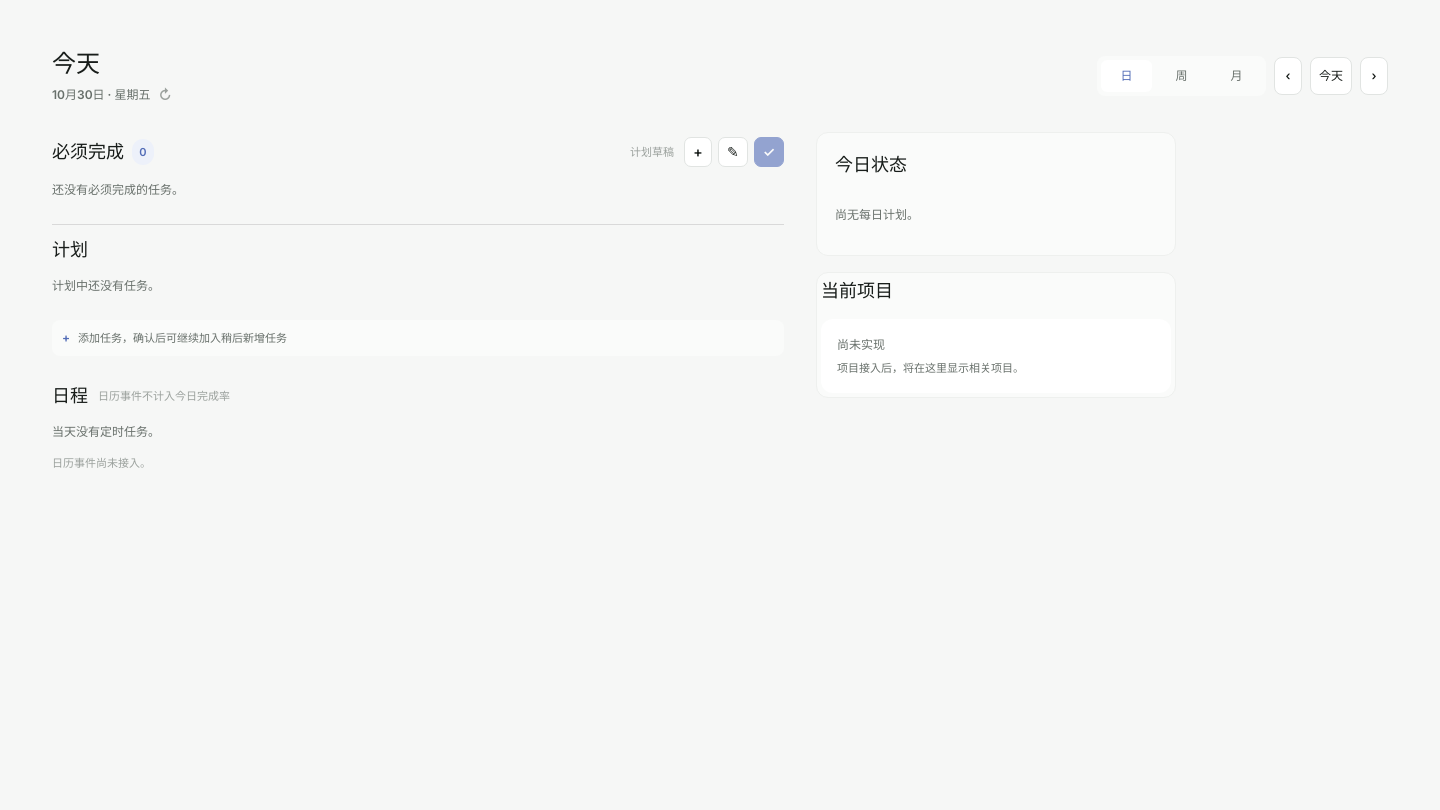
Today Desktop › keeps a failed completion unchecked and displays the server conflict
Expected: the text "计划草稿" is shown, [630,143,674,161]
Step 1. Click the button "+ 添加任务，确认后可继续加入稍后新增任务" → (183, 338), box [52,320,784,356]
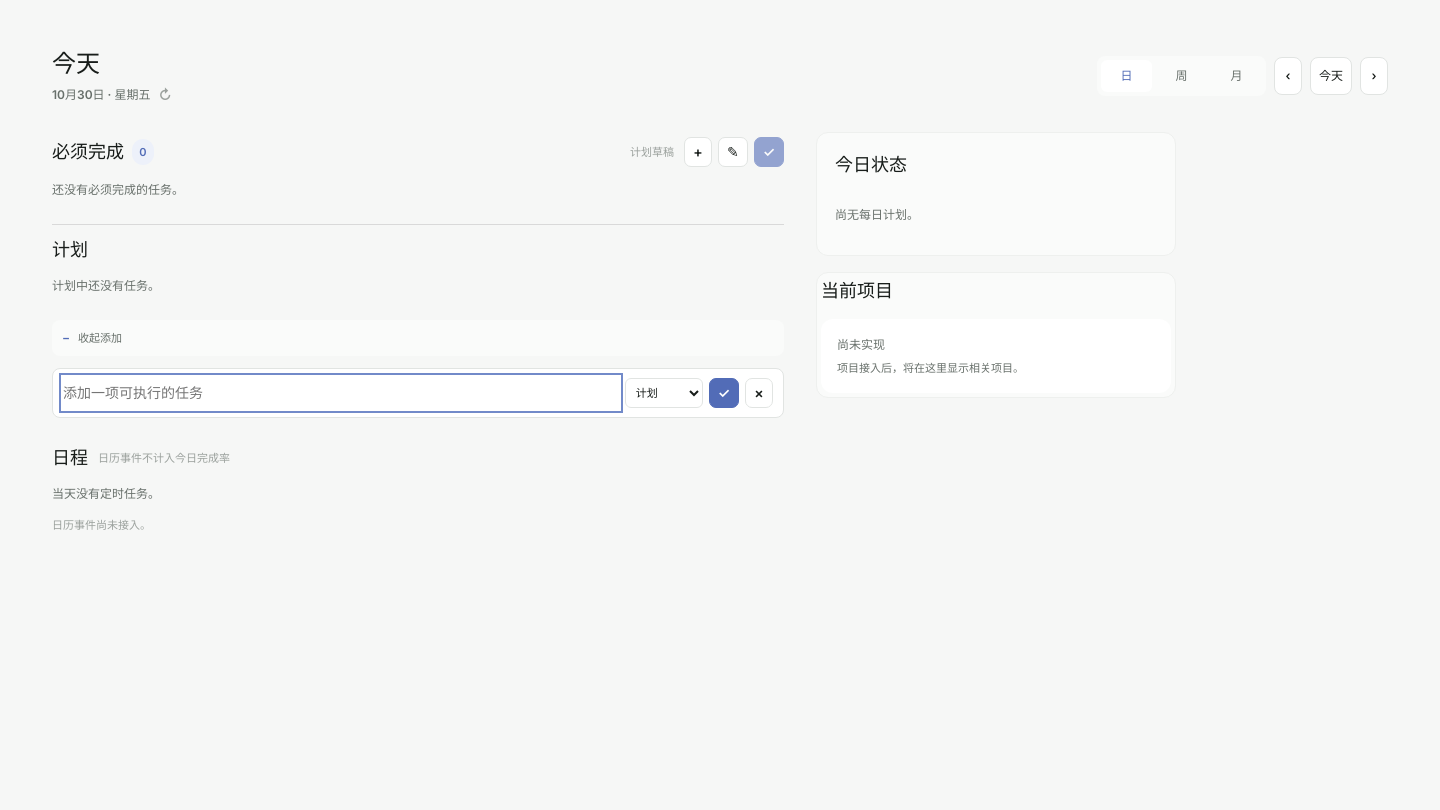
Step 2. Type "Keep pending" into the field named "任务名称" → (341, 393), box [63,377,619,409]
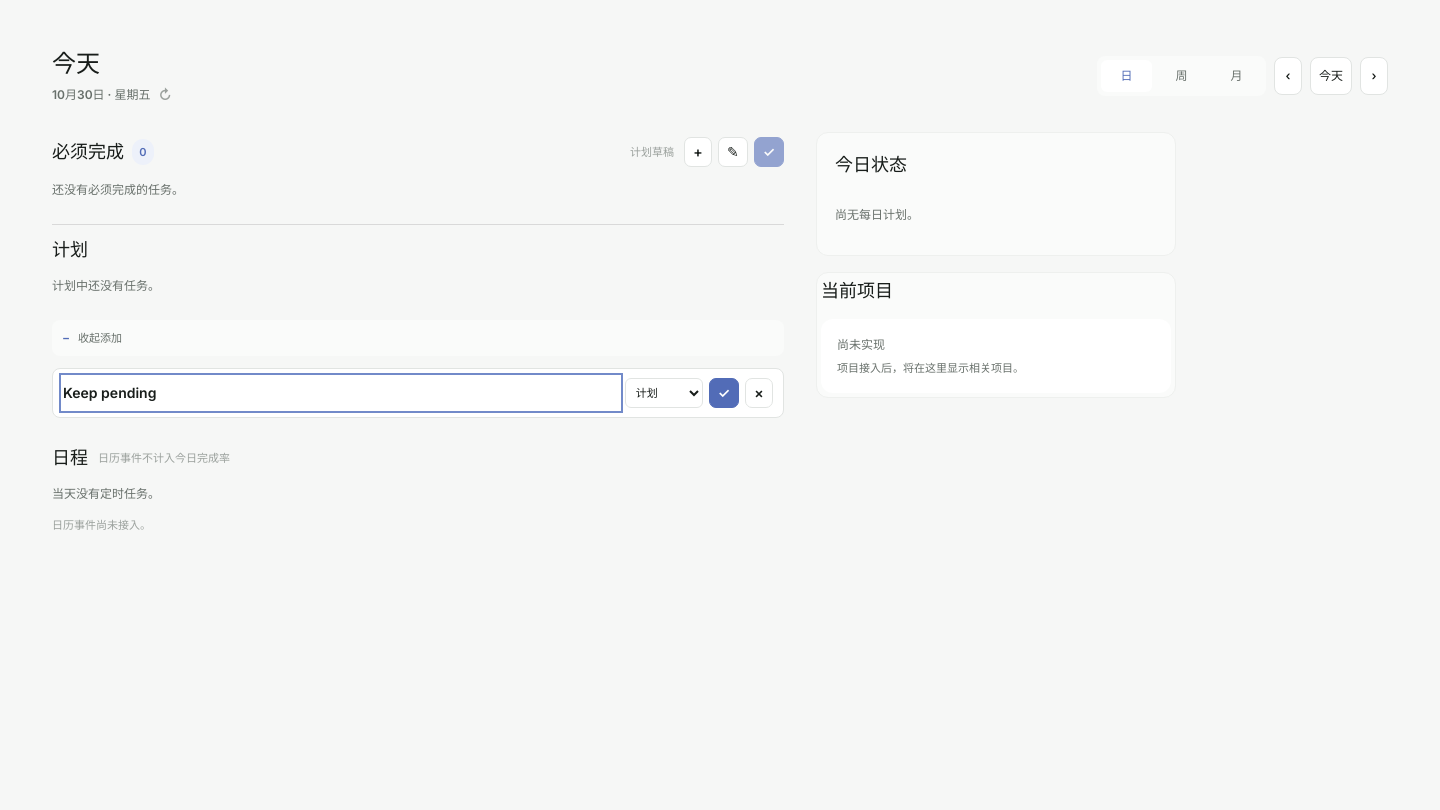
Step 3. Click the button named "创建并加入草稿" → (724, 393), box [709,378,739,408]
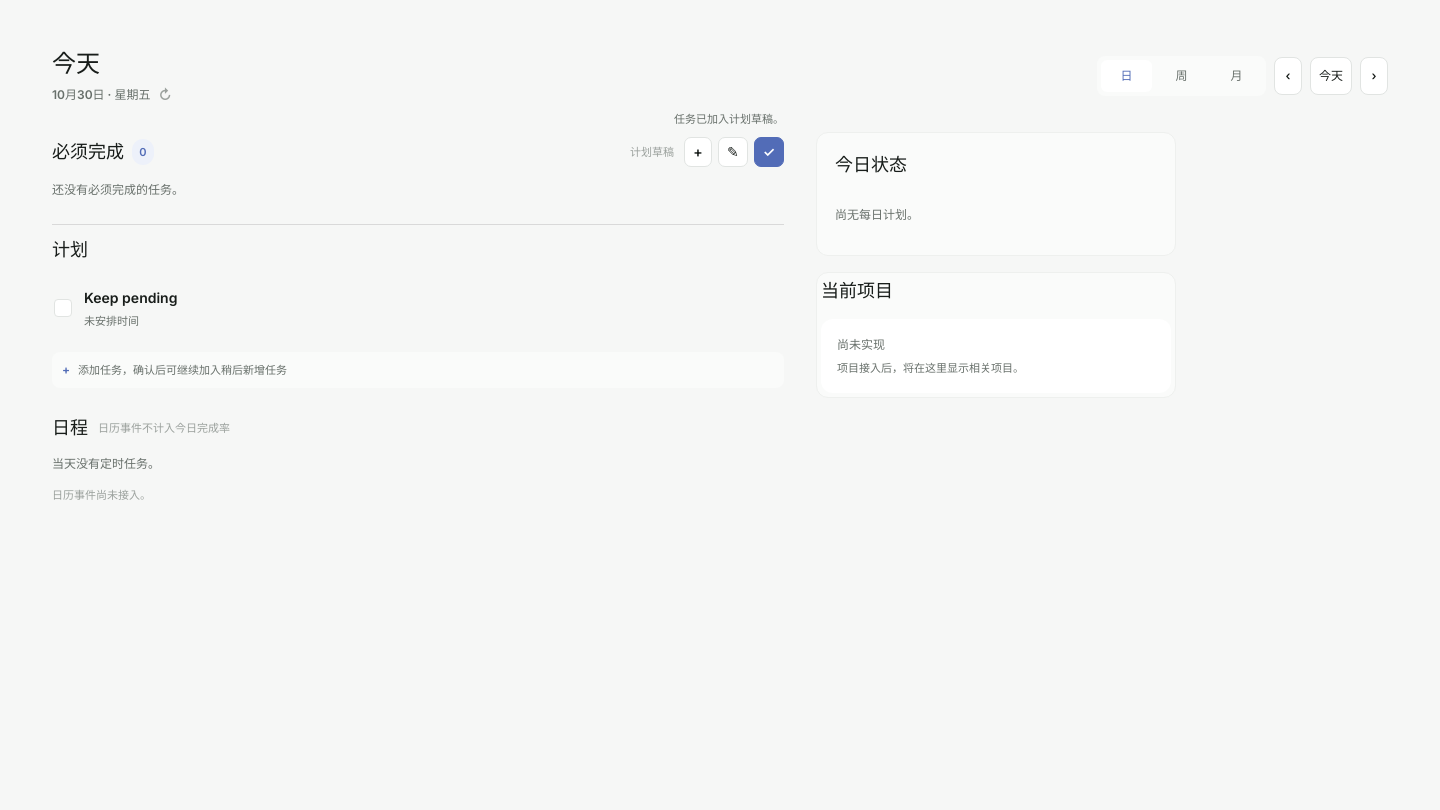
Expected: the field labelled "任务名称" is not shown
Now the text "Keep pending" is shown, box [84,289,177,306]
Step 4. Click the button named "确认今日计划" → (769, 152), box [754,137,784,167]
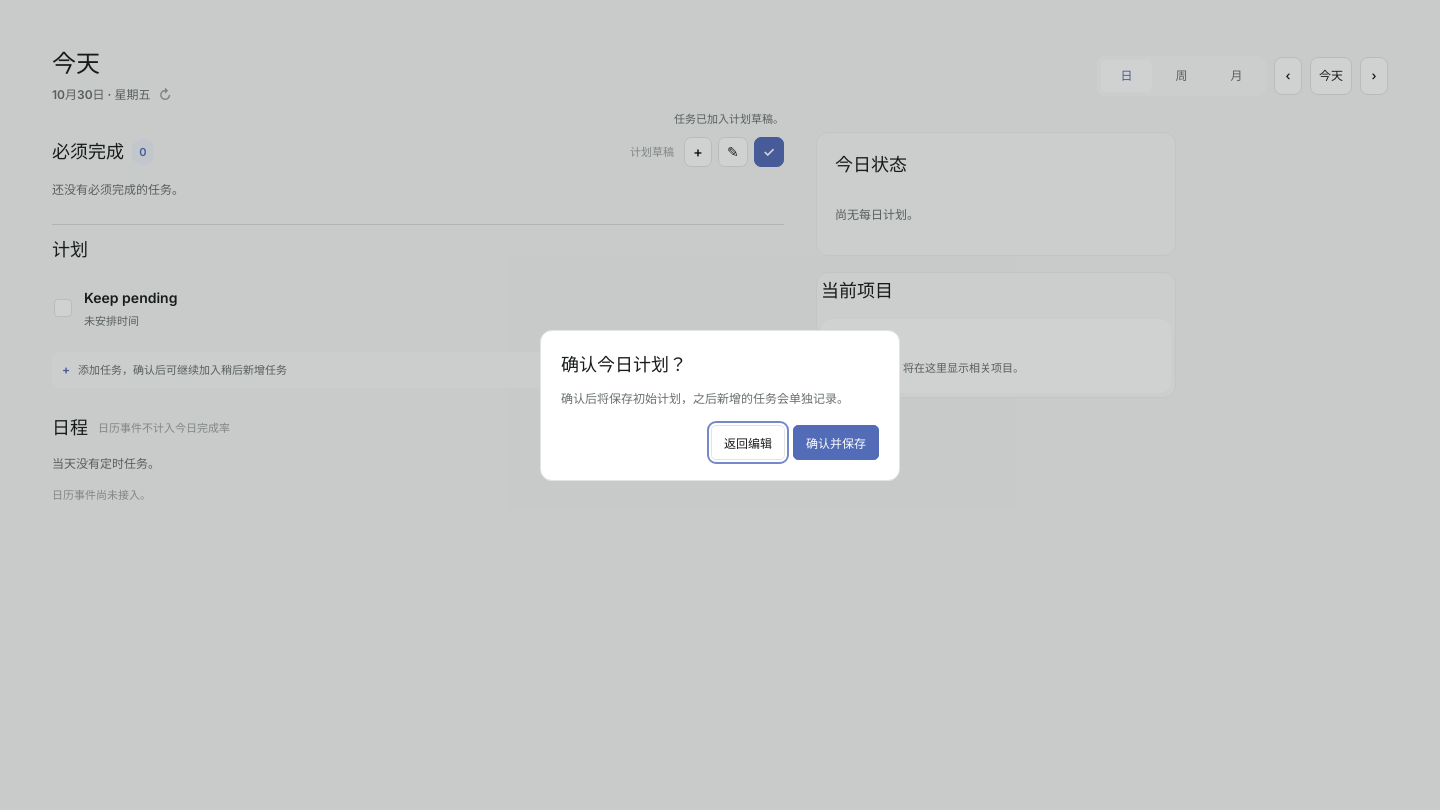
Now the dialog "确认今日计划？" is shown, box [540,330,900,480]
Step 5. Click the button "确认并保存" → (836, 442), box [793,424,879,460]
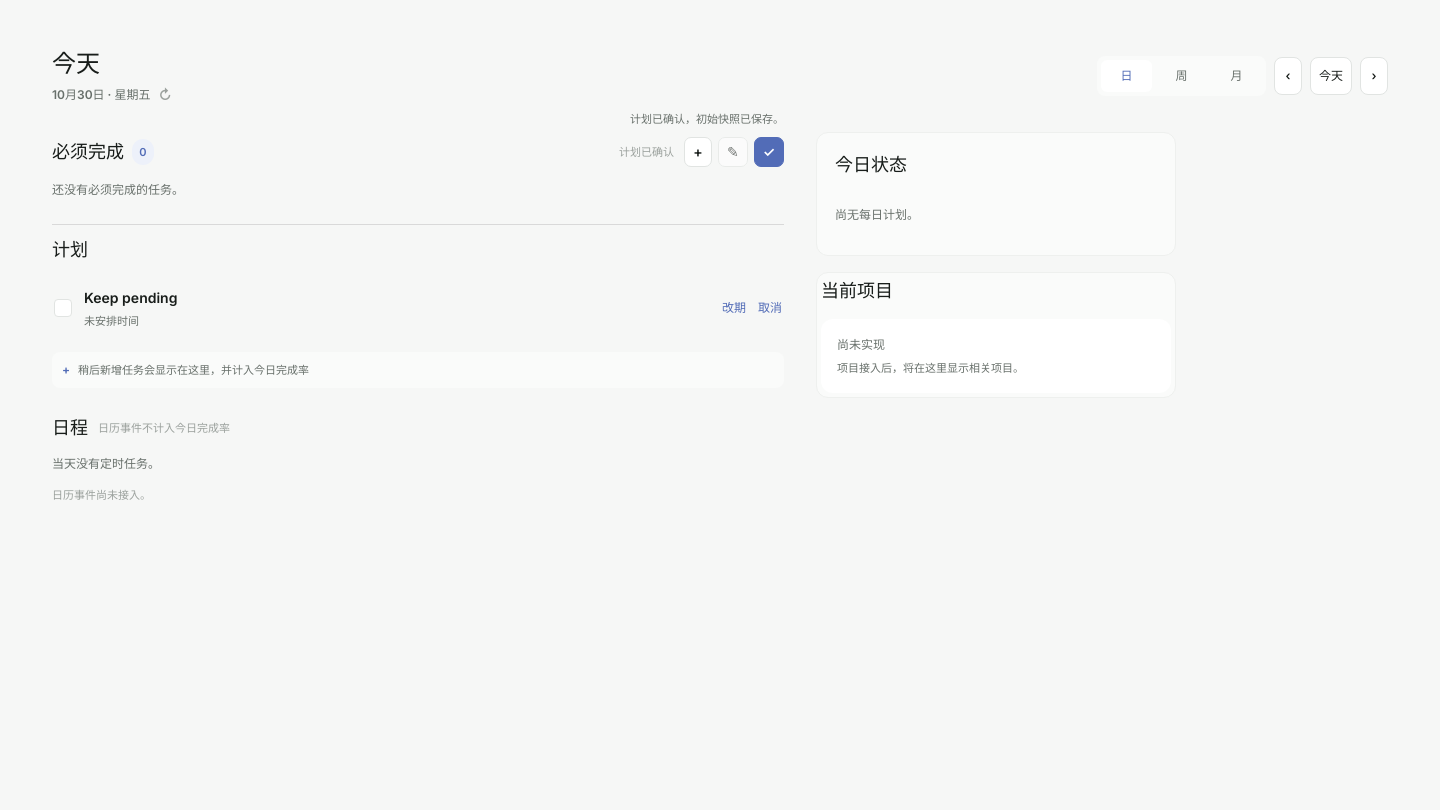
Now the text "计划已确认" is shown, box [619,143,674,161]
Step 6. Click the checkbox → (63, 308), box [54,299,72,317]
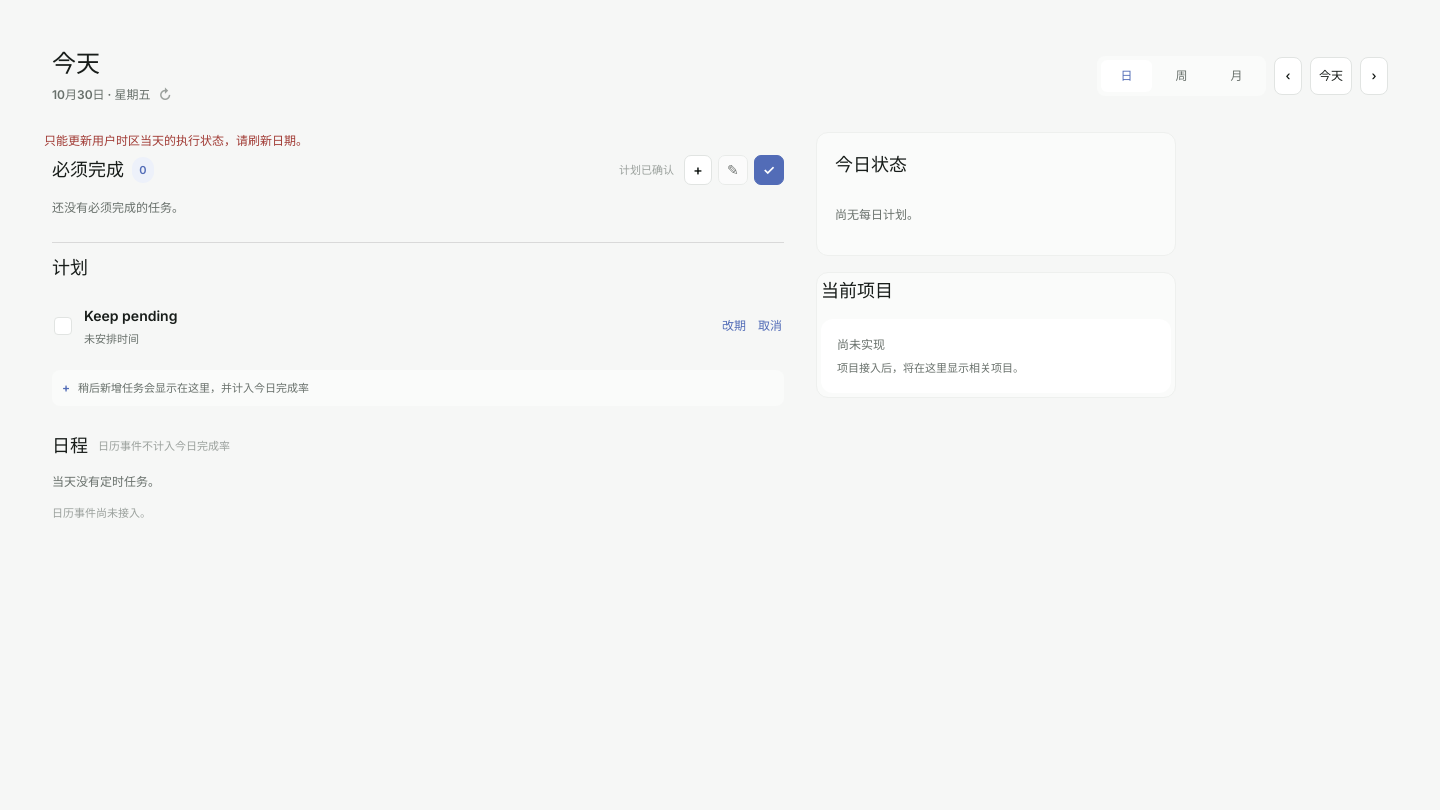
Now the checkbox is not checked, box [54,317,72,335]
Now the text "只能更新用户时区当天的执行状态，请刷新日期。" is shown, box [44,133,308,148]
